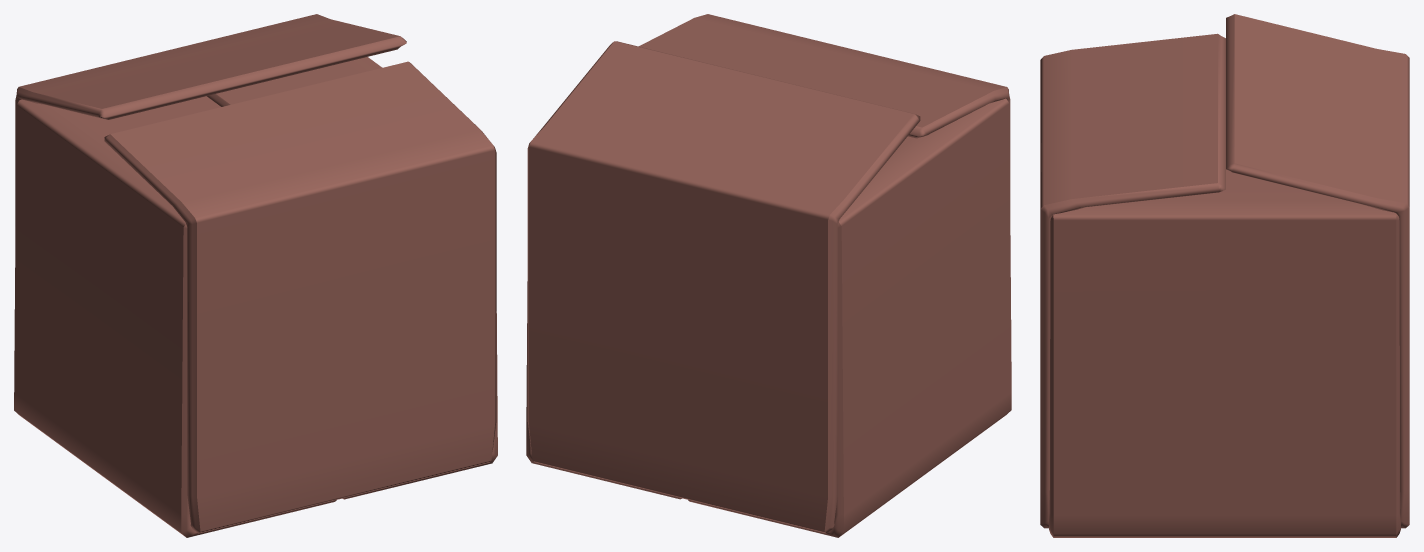
File: MovingBox_A 1.fbx
3 views of the same model, side by side, from view 1: azimuth 30°, elevation 25°; view 2: azimuth 150°, elevation 25°; view 3: azimuth 270°, elevation 25° (orthographic). The views are drawn at different scales.
Parts seen in each view (by area): view 1: Box2, Box1; view 2: Box2, Box1; view 3: Box1, Box2.
Part boxes in pixels (bbox=[...]): Box2: bbox=[15, 14, 496, 533]; Box1: bbox=[14, 57, 497, 537]; Box2: bbox=[527, 14, 1010, 533]; Box1: bbox=[526, 98, 1011, 537]; Box1: bbox=[1049, 169, 1400, 537]; Box2: bbox=[1040, 14, 1409, 528].
Bounding box in the file's own units: 1.11 × 1.21 × 1.09.
